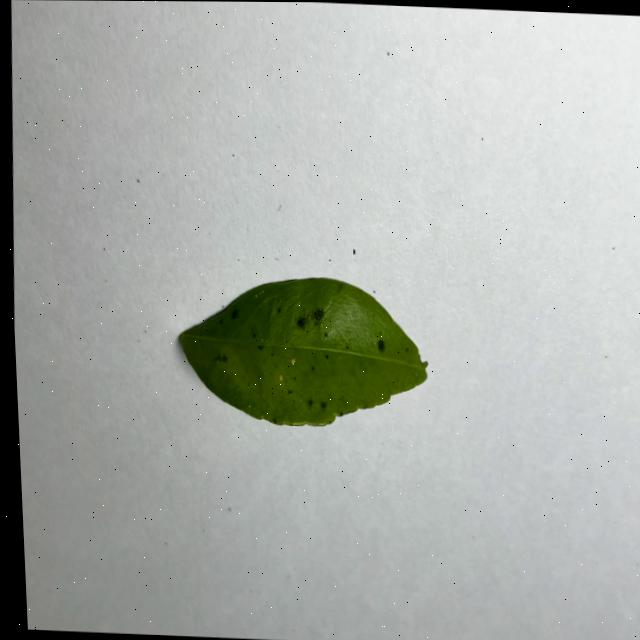sooty_mold: (179, 278, 426, 425)
